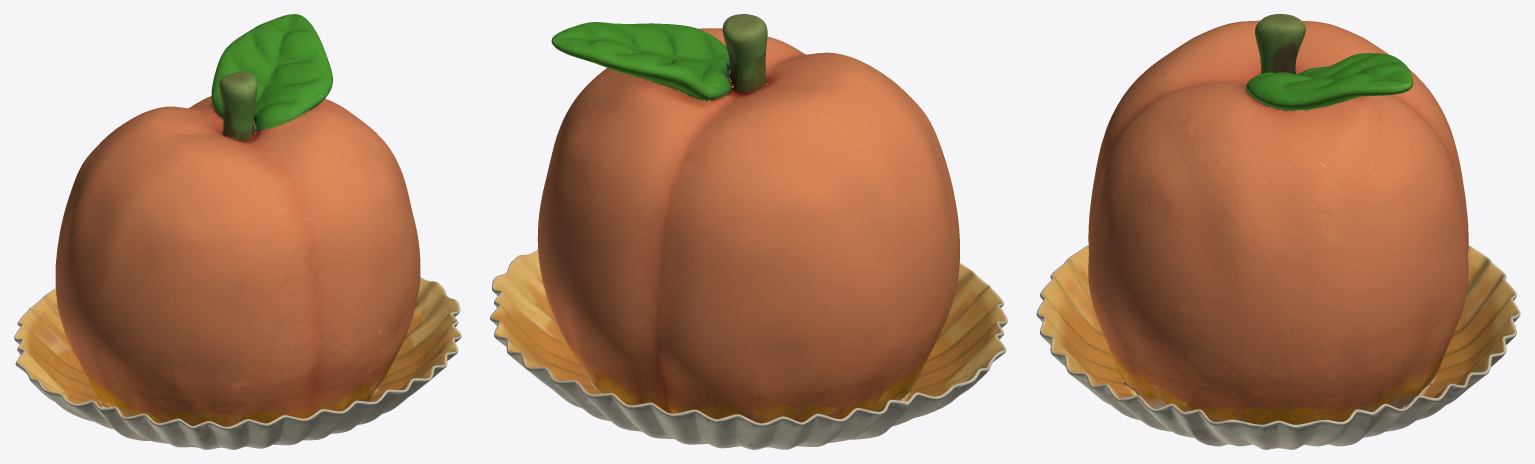
The model's file is peach-shell.glb.
3 renders of one model, left to right at view 1: azimuth 30°, elevation 25°; view 2: azimuth 150°, elevation 25°; view 3: azimuth 270°, elevation 25°, orthographic. The views are drawn at different scales.
Parts seen in each view (by area): view 1: Mesh_0; view 2: Mesh_0; view 3: Mesh_0.
Part boxes in pixels (x1=…): Mesh_0: x1=14, y1=14, x2=461, y2=449; Mesh_0: x1=490, y1=14, x2=1007, y2=449; Mesh_0: x1=1036, y1=14, x2=1520, y2=449.
Bounding box in the file's own units: 1.9 × 1.44 × 1.72.
1 material, 1 textured.
